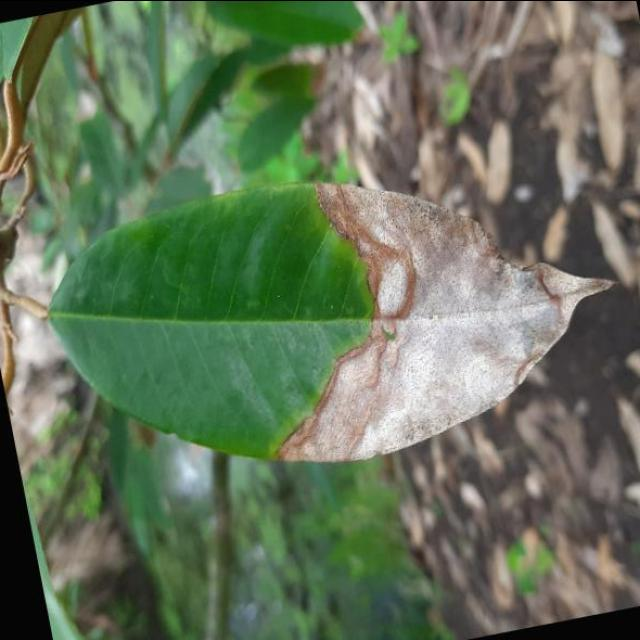Leaf Blight: (18, 110, 640, 524)
